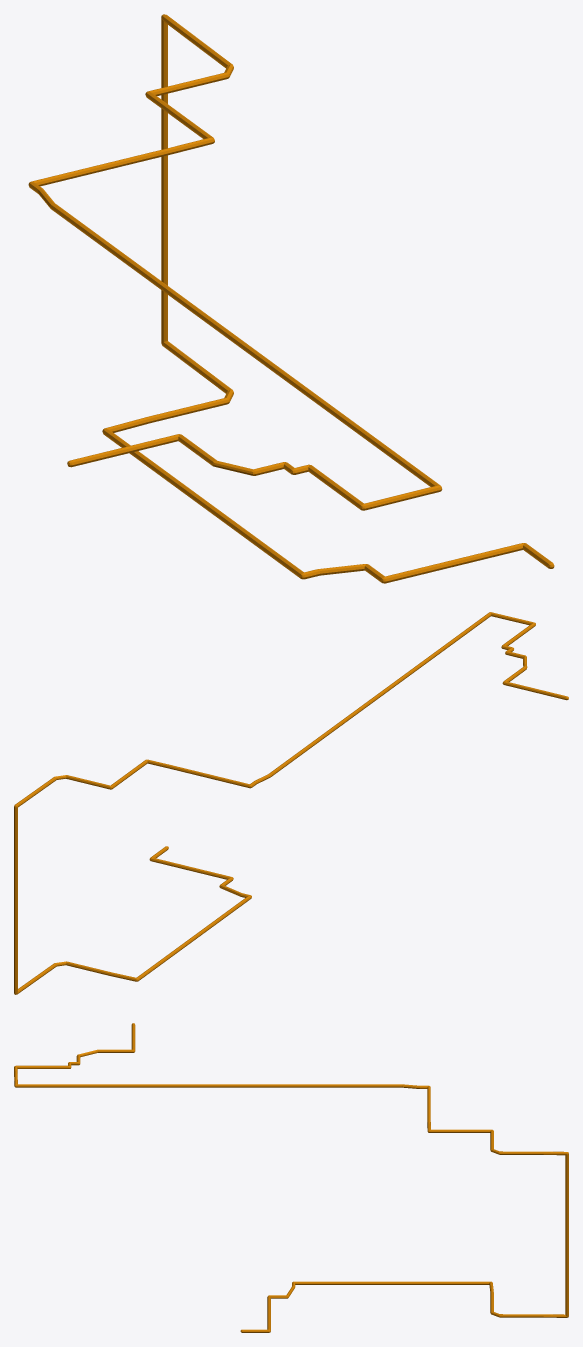
3 views of the same model, one above another, from view 1: azimuth 30°, elevation 25°; view 2: azimuth 150°, elevation 25°; view 3: azimuth 270°, elevation 25° (orthographic). The views are drawn at different scales.
Bounding box in the file's own units: 1915 × 1020 × 3092.
